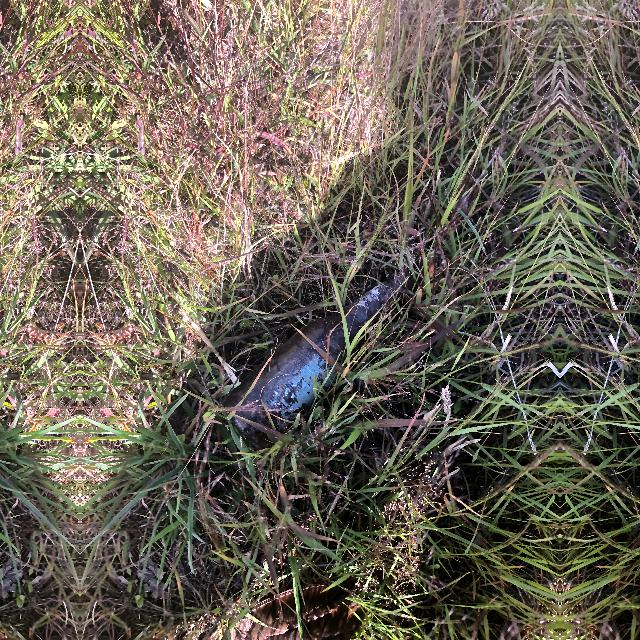Glass: (208, 266, 420, 460)
